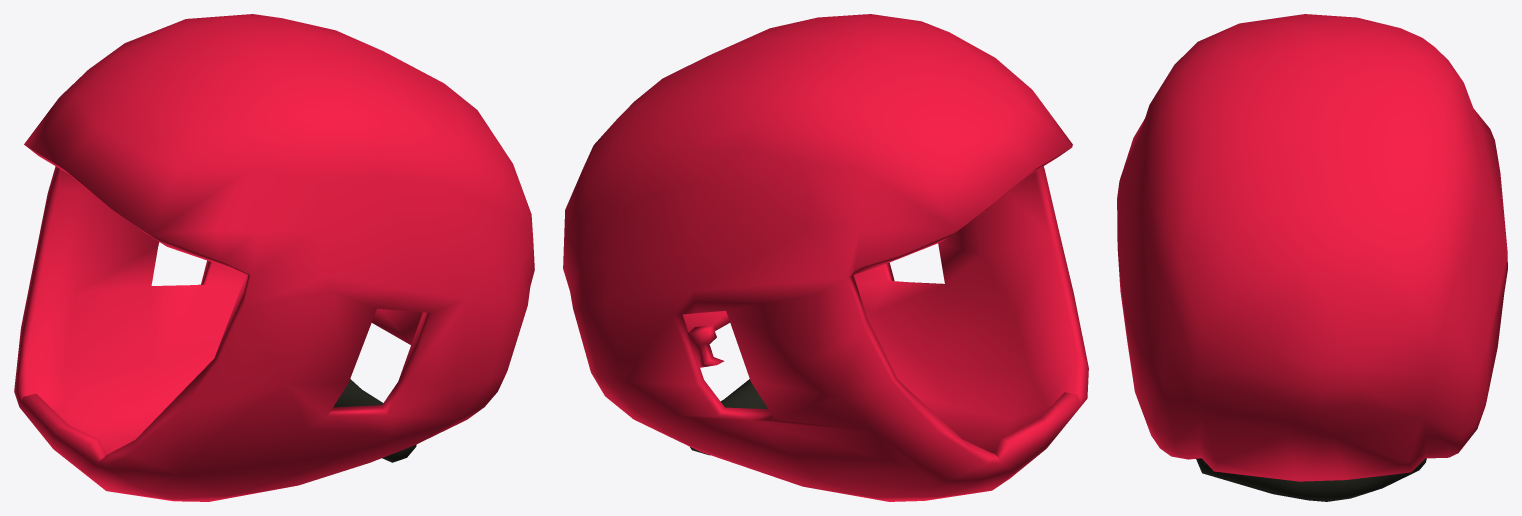
File: helmet.fbx
The picture shows the model from 3 angles, left to right: view 1: azimuth 30°, elevation 25°; view 2: azimuth 150°, elevation 25°; view 3: azimuth 270°, elevation 25°; orthographic projection. The views are drawn at different scales.
Visible parts, largest first — view 1: Plane.066; view 2: Plane.066; view 3: Plane.066.
Boxes of the visible parts, x1,y1,x2,y2 form: Plane.066: (14,14,534,501); Plane.066: (563,14,1088,501); Plane.066: (1117,14,1507,501).
Size of the model in its own units: 30.12 by 27.04 by 23.38.
